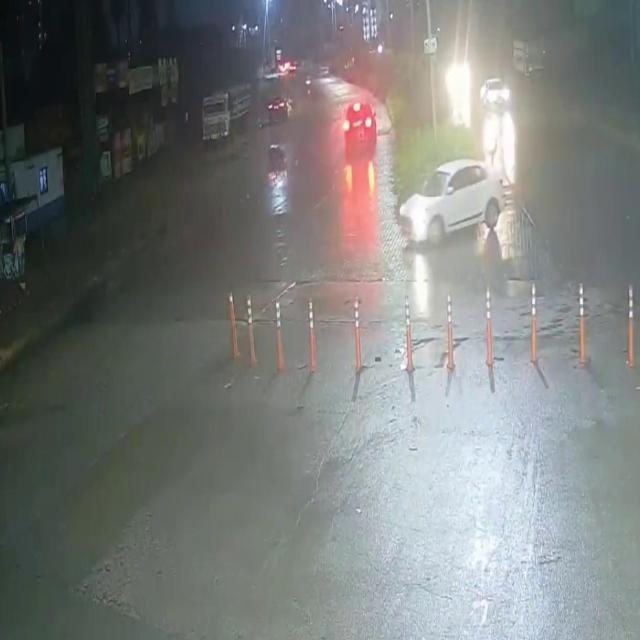accident: (263, 133, 290, 195)
